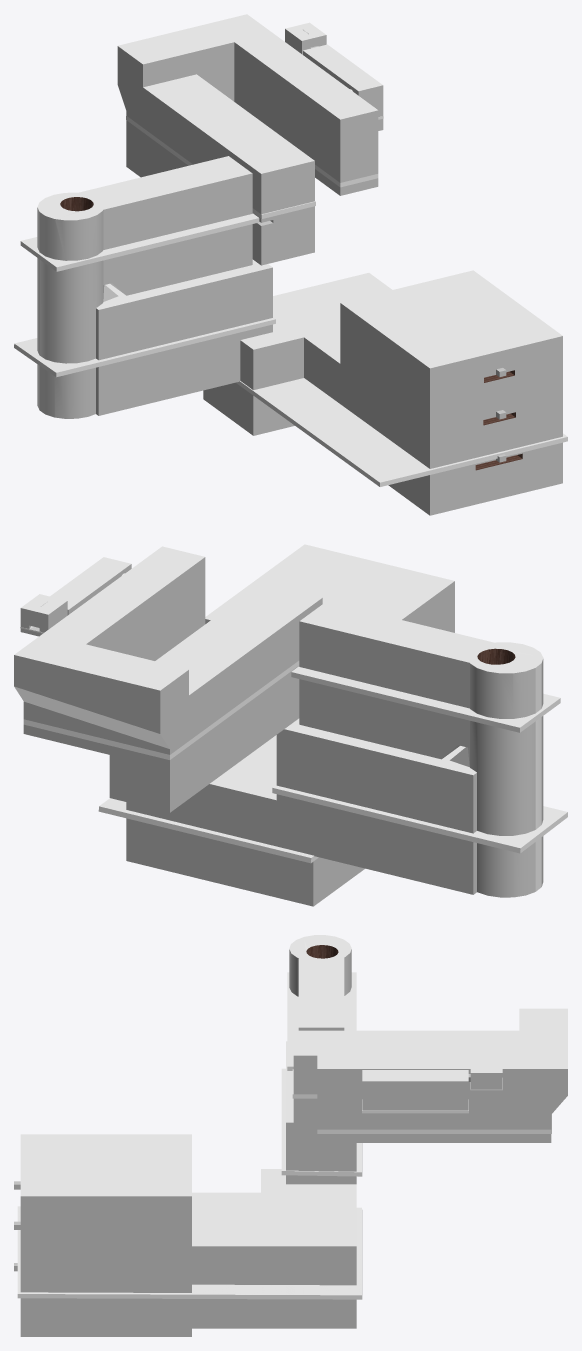
The model's file is surfmap_export.fbx.
3 renders of one model, top to bottom at view 1: azimuth 30°, elevation 25°; view 2: azimuth 150°, elevation 25°; view 3: azimuth 270°, elevation 25°, orthographic. The views are drawn at different scales.
Visible parts, largest first — view 1: _generated_render_mesh__2; view 2: _generated_render_mesh__2; view 3: _generated_render_mesh__2.
Boxes of the visible parts, x1,y1,x2,y2 form: _generated_render_mesh__2: (14,14,567,515); _generated_render_mesh__2: (14,544,567,906); _generated_render_mesh__2: (14,935,567,1336).
Size of the model in its own units: 435 by 307 by 585.
